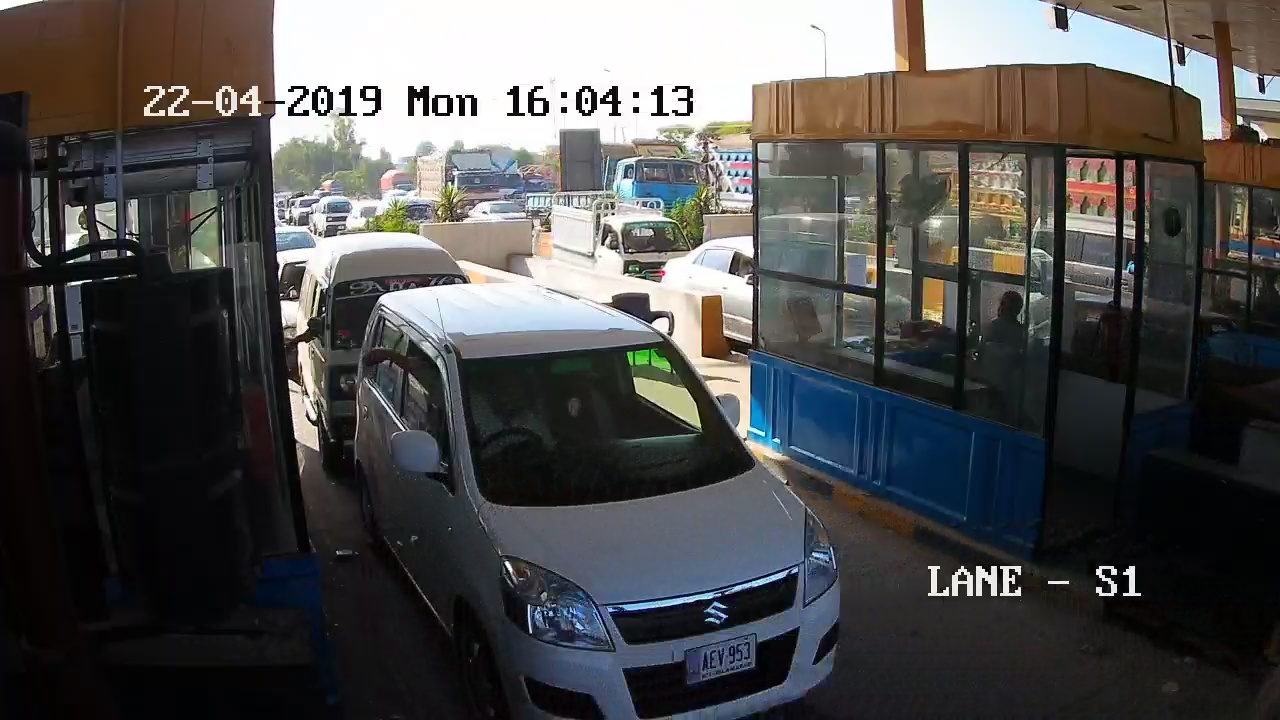Number Plate (Car): (680, 639, 758, 680)
